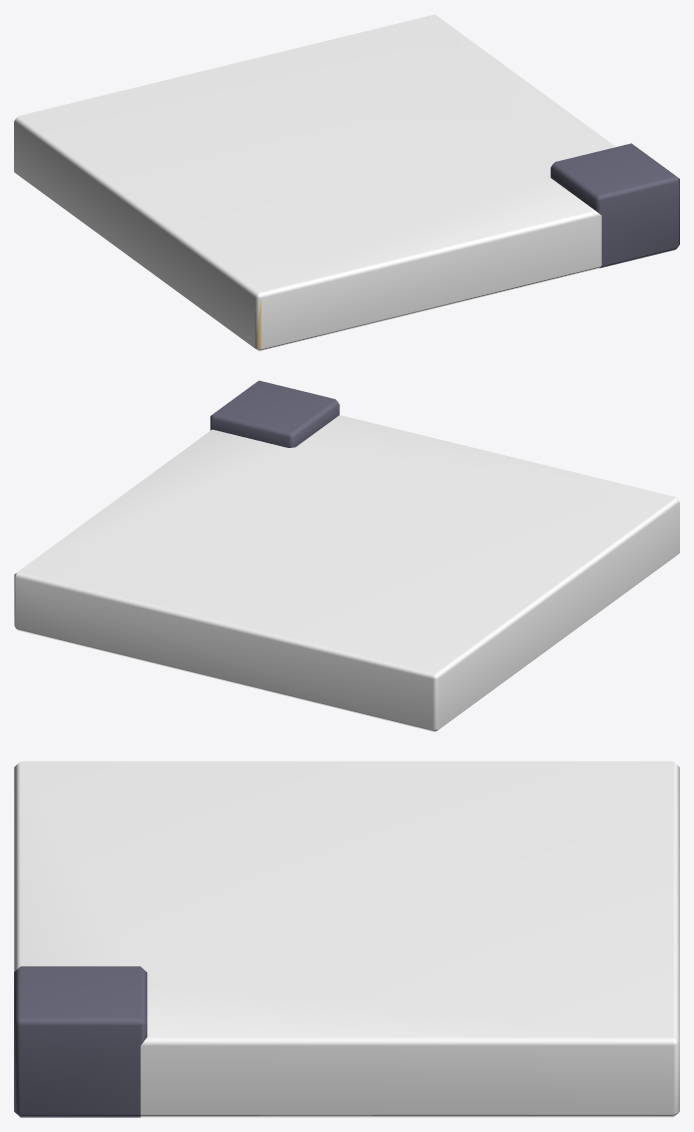
File: mod_sc_tdm_roma_ground_004.fbx
3 views of the same model, one above another, from view 1: azimuth 30°, elevation 25°; view 2: azimuth 150°, elevation 25°; view 3: azimuth 270°, elevation 25° (orthographic). The views are drawn at different scales.
Parts seen in each view (by area): view 1: mod_sc_roma_001_ar05_floor_001; view 2: mod_sc_roma_001_ar05_floor_001; view 3: mod_sc_roma_001_ar05_floor_001.
Part boxes in pixels (x1,y1,x2,y2): mod_sc_roma_001_ar05_floor_001: [14, 14, 679, 351]; mod_sc_roma_001_ar05_floor_001: [14, 380, 679, 732]; mod_sc_roma_001_ar05_floor_001: [14, 761, 679, 1117].
Size of what is drawn, in the model's own units: 300 by 50 by 300.
1 material, 1 textured.
